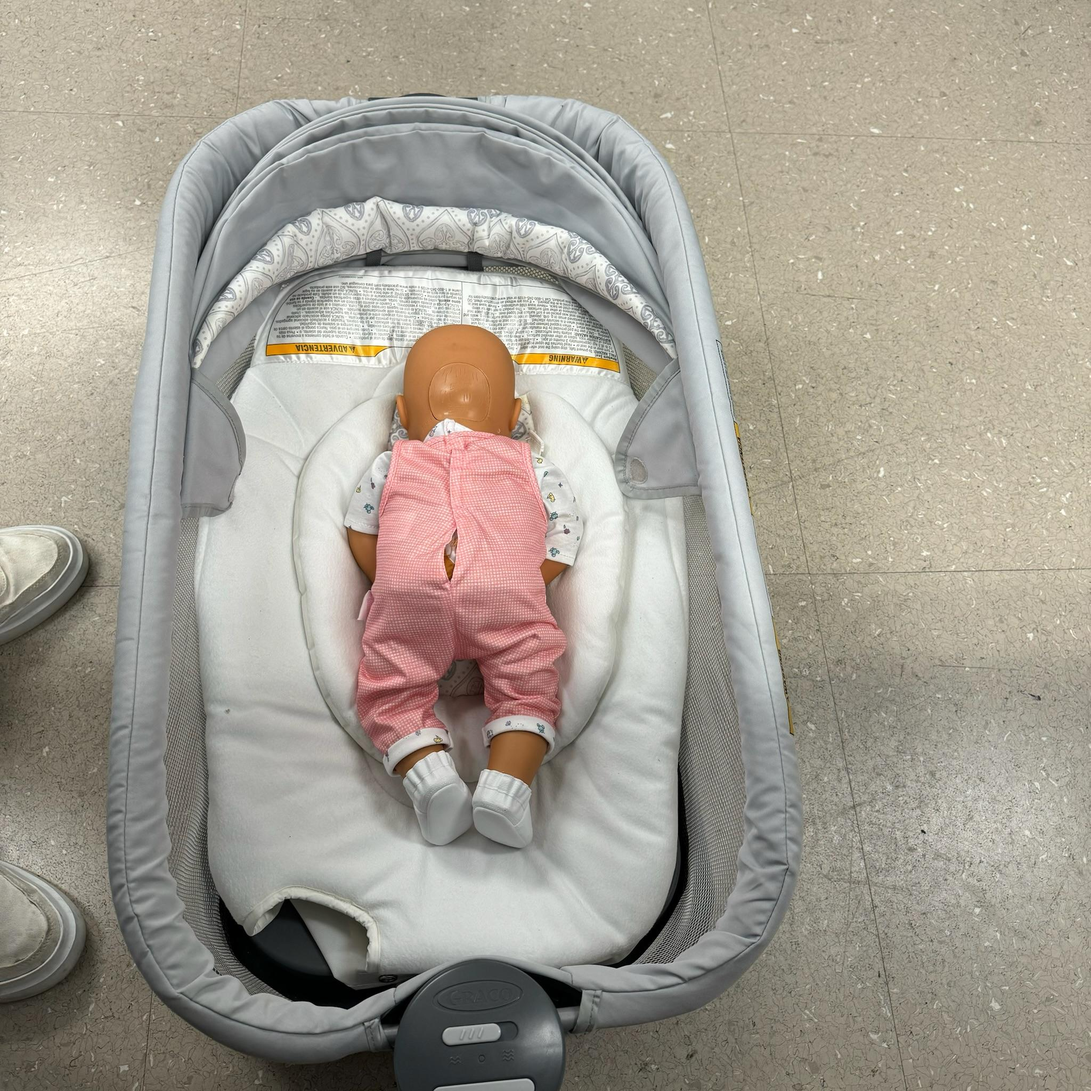baby: (335, 314, 598, 860)
